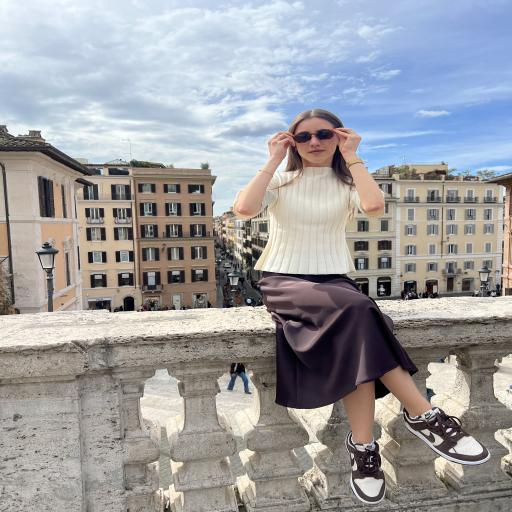masa: (294, 120, 341, 162)
